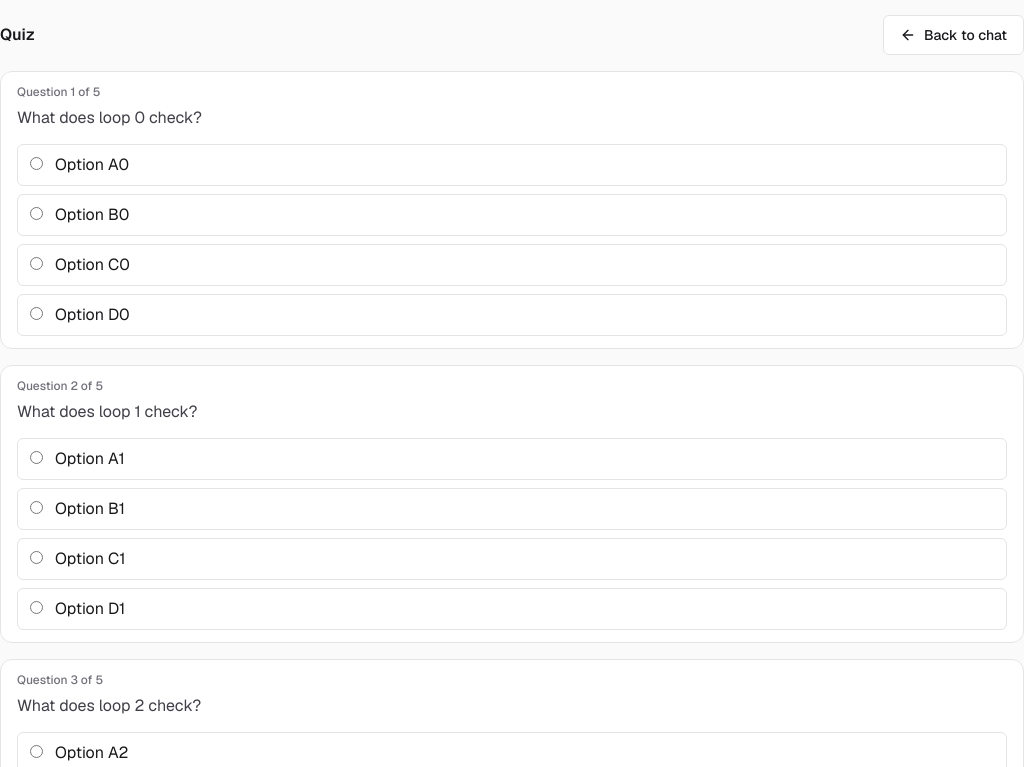
Scenario: QuizView after checking › hides Check answers and shows Retake quiz and Back to chat
Click the radio button labelled "Option A0".
click(36, 164)  # box [30,157,43,170]
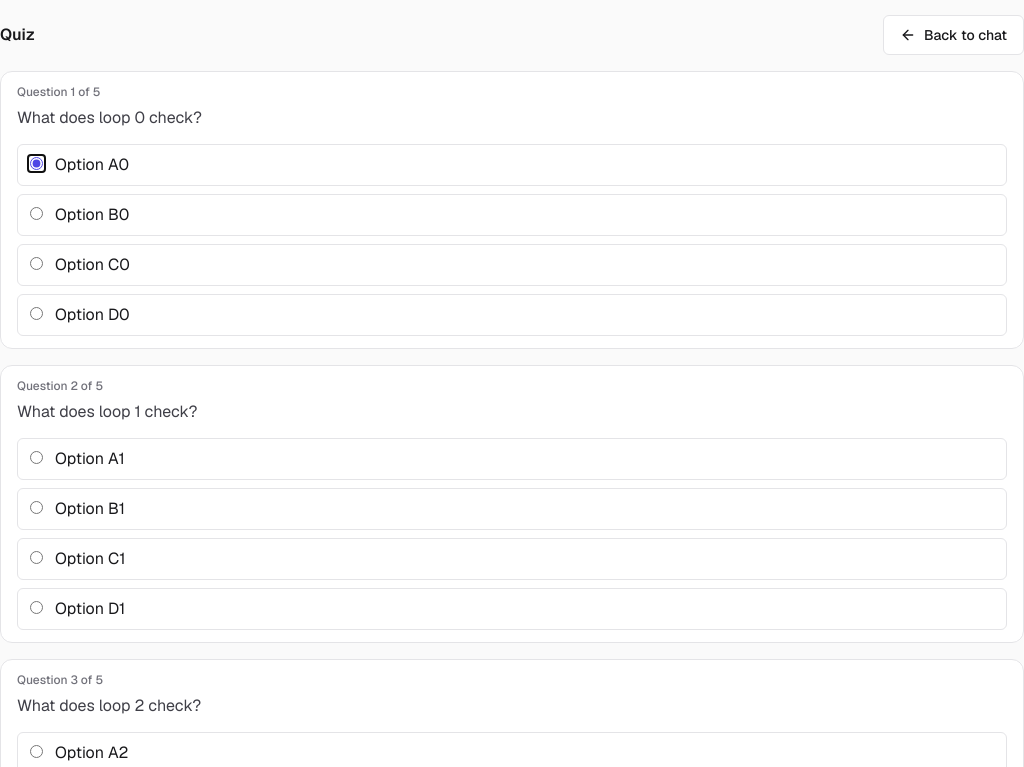
Click the radio button labelled "Option B1".
click(36, 508)  # box [30,501,43,514]
(page scrolled)
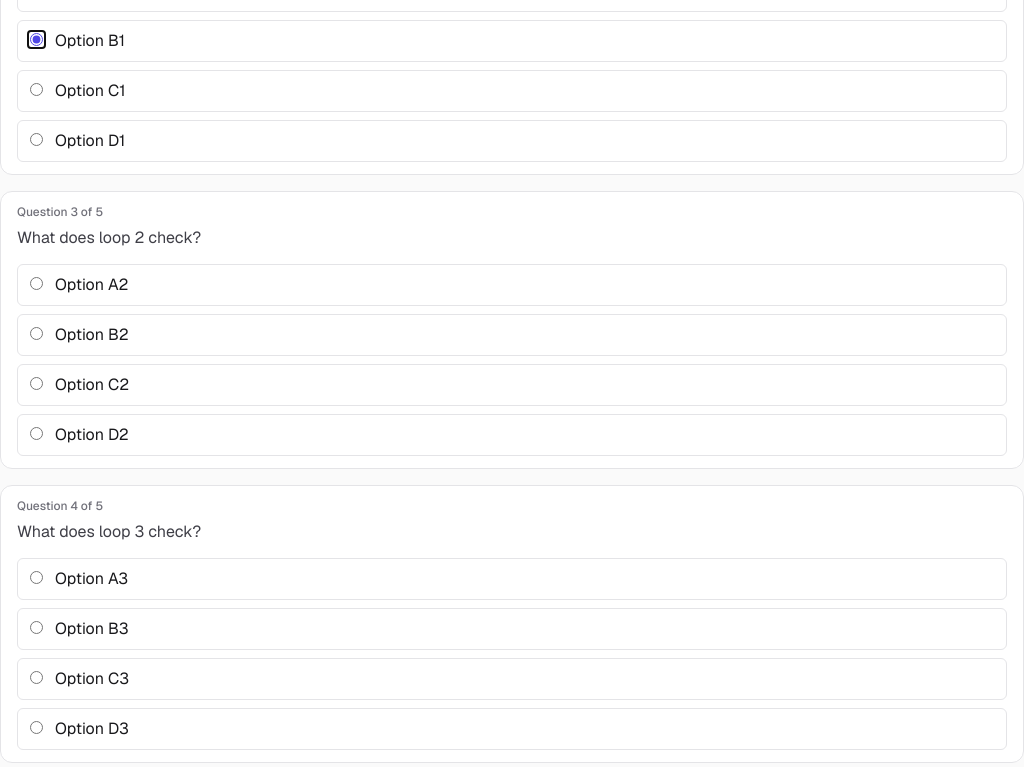
Click the radio button labelled "Option C2".
click(36, 384)  # box [30,377,43,390]
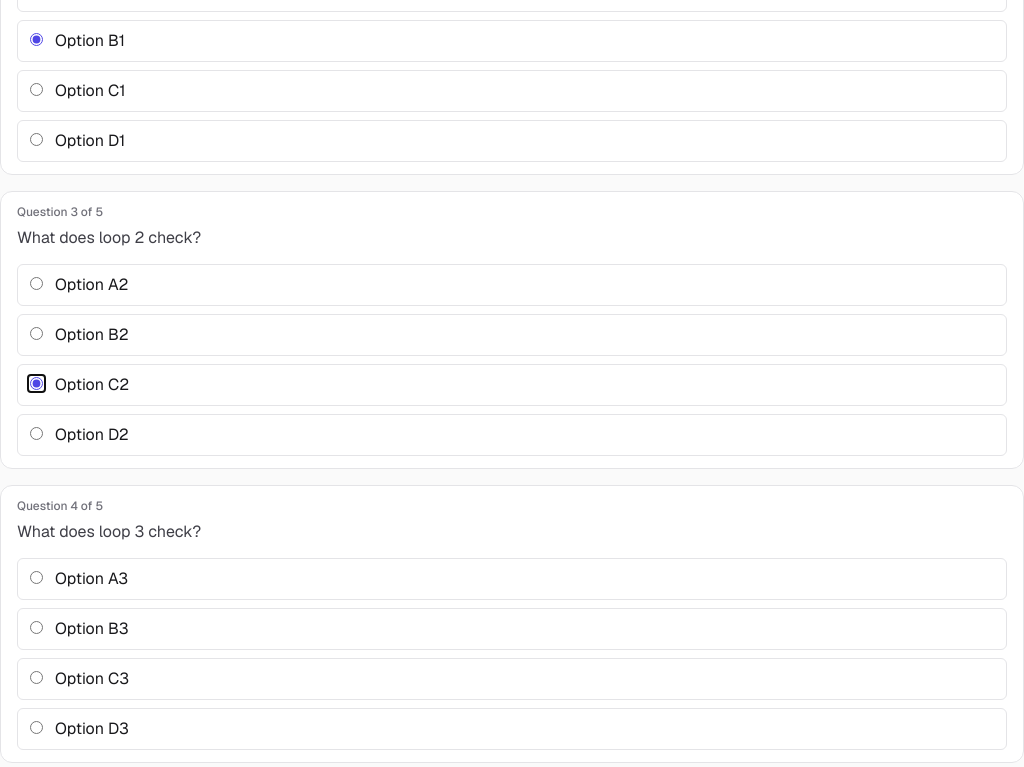
Click the radio button labelled "Option A3".
click(36, 578)  # box [30,571,43,584]
(page scrolled)
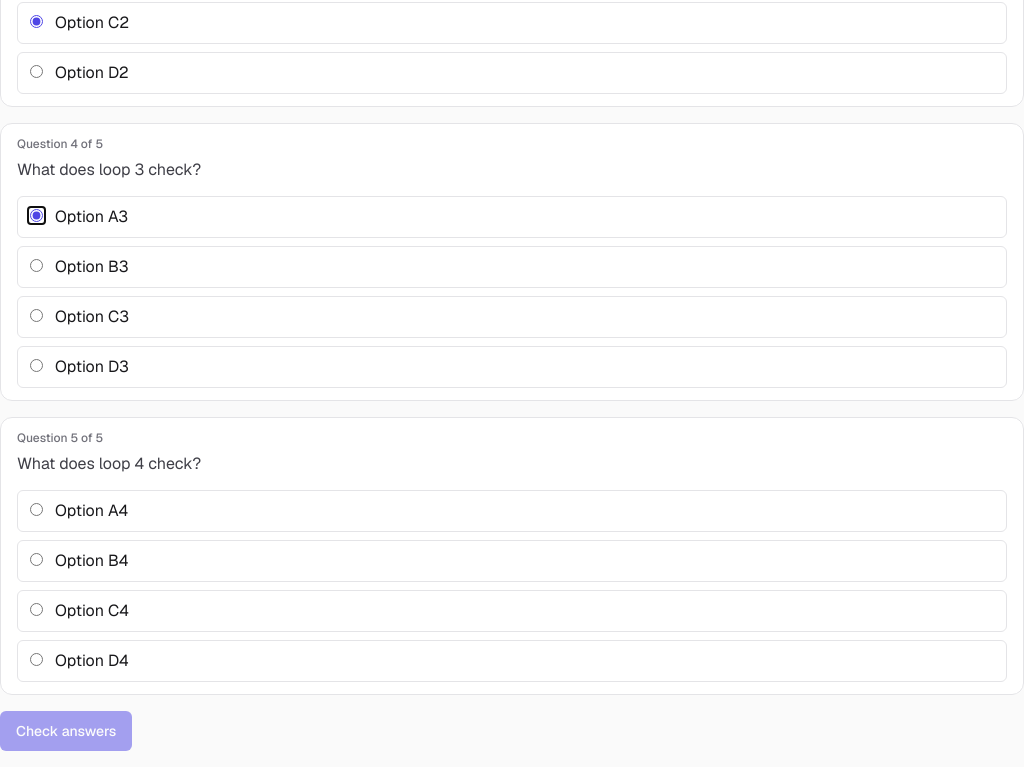
Click the radio button labelled "Option B4".
click(36, 560)  # box [30,553,43,566]
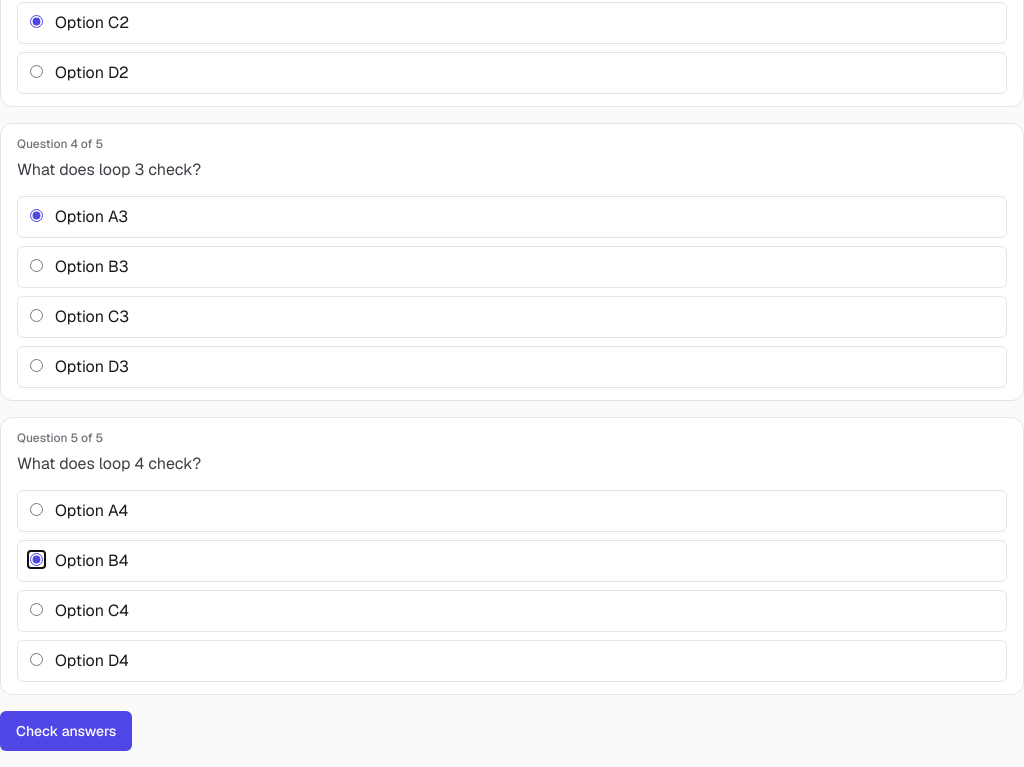
Click the button "Check answers".
click(66, 731)  # box [0,711,132,751]
(page scrolled)
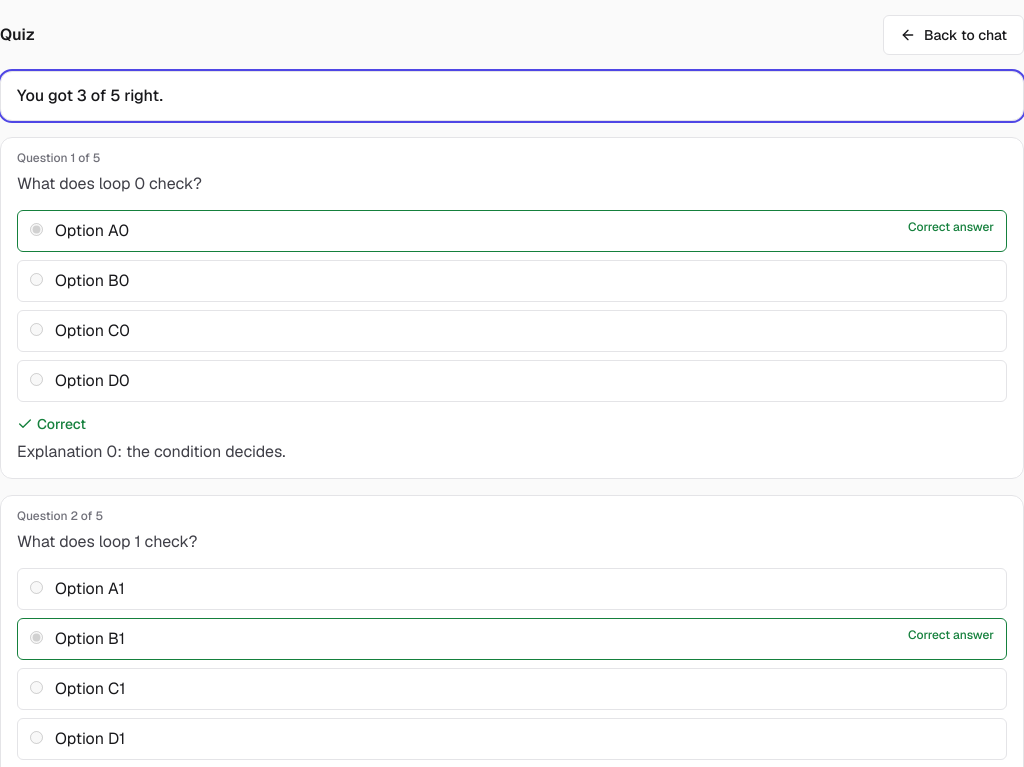
expect the button "Back to chat" is shown: met, box [883,15,1023,55]
expect the button "Check answers" is gone: met
